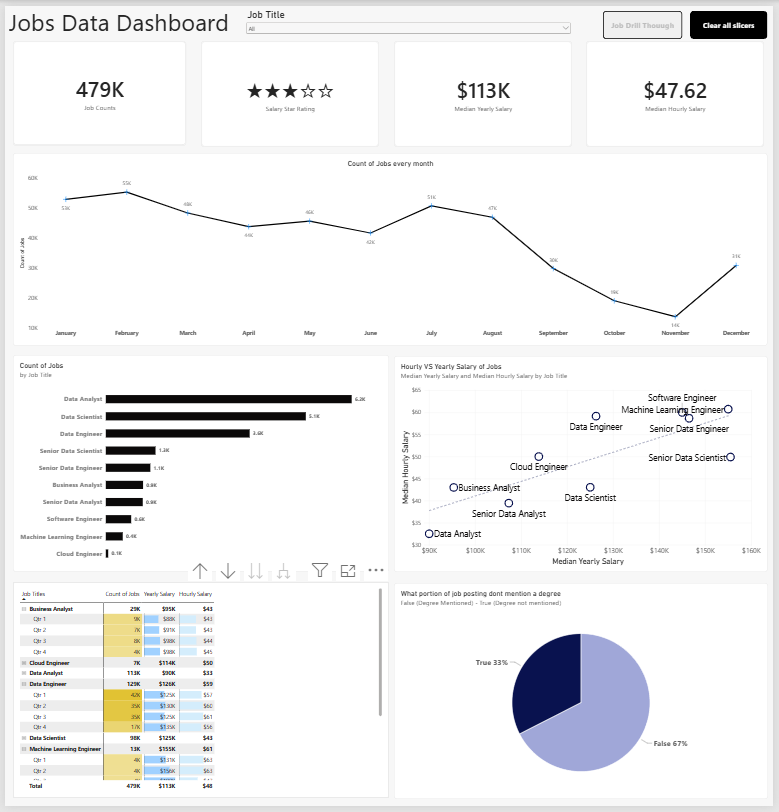

Layout of this report page (visuals, bound fields, positions):
{"tool":"powerbi","page":{"name":"Data Jobs Dashboard","canvas":[1920,2000],"ordinal":0},"visuals":[{"type":"textbox","box":[10,0,601.7,90],"z":0},{"type":"slicer","fields":{"Values":["job_postings_flat.job_title_short"]},"box":[598,4,821.7,86.7],"z":1000},{"type":"actionButton","box":[1711.2,11.2,193.8,70],"z":2000},{"type":"cardVisual","fields":{"Data":["CountNonNull(job_postings_flat.job_title_short)"]},"box":[20.7,86.5,433.3,261.7],"z":2000,"group":"g1"},{"type":"group","id":"g1","title":"Group 1","box":[20.7,86.5,1878.3,265],"z":3000},{"type":"cardVisual","fields":{"Data":["job_postings_flat.Salary Star Rating"]},"box":[490.7,86.5,445,265],"z":3000,"group":"g1"},{"type":"cardVisual","fields":{"Data":["Median(job_postings_flat.salary_year_avg)"]},"box":[972.4,86.5,445,265],"z":4000,"group":"g1"},{"type":"lineChart","title":"Count of Jobs every month","fields":{"Category":["job_postings_flat.job_posted_date.Variation.Date Hierarchy.Month"],"Y":["CountNonNull(job_postings_flat.job_title_short)"]},"box":[20,368,1886,482],"z":4000},{"type":"cardVisual","fields":{"Data":["Median(job_postings_flat.salary_hour_avg)"]},"box":[1454,86.5,445,265],"z":5000,"group":"g1"},{"type":"barChart","fields":{"Category":["job_postings_flat.job_title_short"],"Y":["CountNonNull(job_postings_flat.salary_year_avg)"]},"box":[20,873.3,940,541.7],"z":5000},{"type":"scatterChart","title":"Hourly VS Yearly Salary of Jobs","fields":{"Series":["job_postings_flat.job_title_short"],"X":["Median(job_postings_flat.salary_year_avg)"],"Y":["Median(job_postings_flat.salary_hour_avg)"]},"box":[972,876,934,540],"z":6000},{"type":"pivotTable","fields":{"Rows":["job_postings_flat.job_title_short","job_postings_flat.job_posted_date.Variation.Date Hierarchy.Quarter"],"Values":["CountNonNull(job_postings_flat.job_title_short)","Median(job_postings_flat.salary_year_avg)","Median(job_postings_flat.salary_hour_avg)"]},"box":[20,1440,940,540],"z":7000},{"type":"pieChart","title":"What portion of job posting dont mention a degree","fields":{"Category":["job_postings_flat.job_no_degree_mention"],"Y":["CountNonNull(job_postings_flat.job_no_degree_mention)"]},"box":[971.7,1441.7,935,540],"z":8000},{"type":"actionButton","title":"Job Title Drill Through","box":[1496,12,198.3,70],"z":8001}]}

Visuals, with their boxes in screenshot pixels (x1, y1, x2, y2), scaled from the page's 1920x2000 canvas onto the 779x812 screenshot:
textbox: <box>4,0,248,37</box>
slicer - job_postings_flat.job_title_short: <box>243,2,576,37</box>
actionButton: <box>694,5,773,33</box>
cardVisual - CountNonNull(job_postings_flat.job_title_short): <box>8,35,184,141</box>
"Group 1" group: <box>8,35,770,143</box>
cardVisual - job_postings_flat.Salary Star Rating: <box>199,35,380,143</box>
cardVisual - Median(job_postings_flat.salary_year_avg): <box>395,35,575,143</box>
"Count of Jobs every month" lineChart: <box>8,149,773,345</box>
cardVisual - Median(job_postings_flat.salary_hour_avg): <box>590,35,770,143</box>
barChart - job_postings_flat.job_title_short x CountNonNull(job_postings_flat.salary_year_avg): <box>8,355,390,574</box>
"Hourly VS Yearly Salary of Jobs" scatterChart: <box>394,356,773,575</box>
pivotTable - job_postings_flat.job_title_short x job_postings_flat.job_posted_date.Variation.Date Hierarchy.Quarter: <box>8,585,390,804</box>
"What portion of job posting dont mention a degree" pieChart: <box>394,585,774,805</box>
"Job Title Drill Through" actionButton: <box>607,5,687,33</box>
